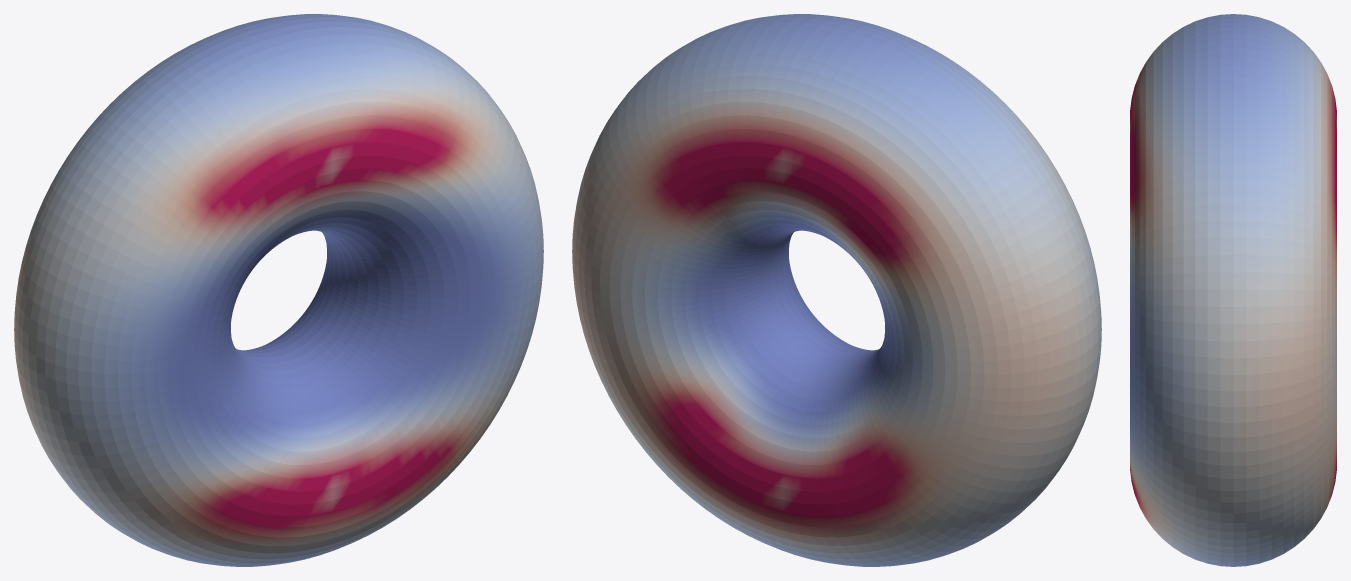
3 renders of one model, left to right at view 1: azimuth 30°, elevation 25°; view 2: azimuth 150°, elevation 25°; view 3: azimuth 270°, elevation 25°, orthographic. The views are drawn at different scales.
Visible parts, largest first — view 1: world; view 2: world; view 3: world.
Part boxes in pixels (left/top/right/bottom): world: left=14, top=14, right=543, bottom=566; world: left=572, top=14, right=1101, bottom=566; world: left=1130, top=14, right=1336, bottom=566.
Bounding box in the file's own units: 18.13 × 18.13 × 6.79.
